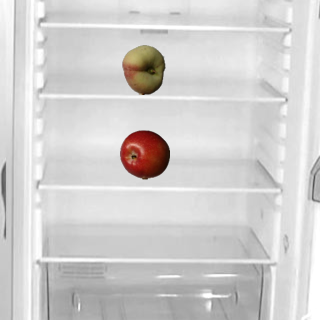Apple Braeburn: (119, 129, 169, 179)
Peach Flat: (118, 44, 168, 94)
